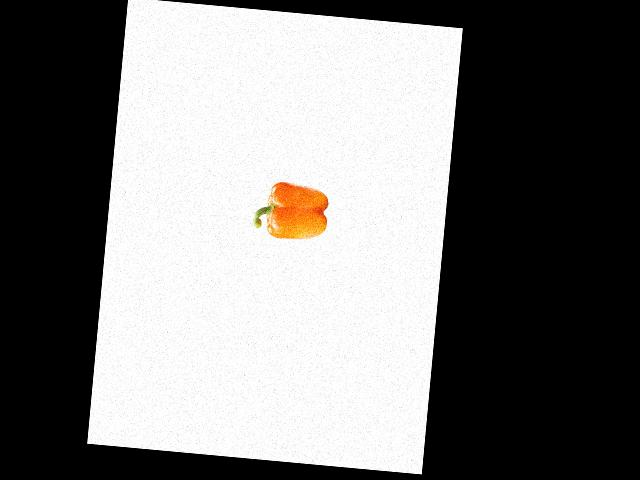bell_pepper: (251, 174, 331, 248)
